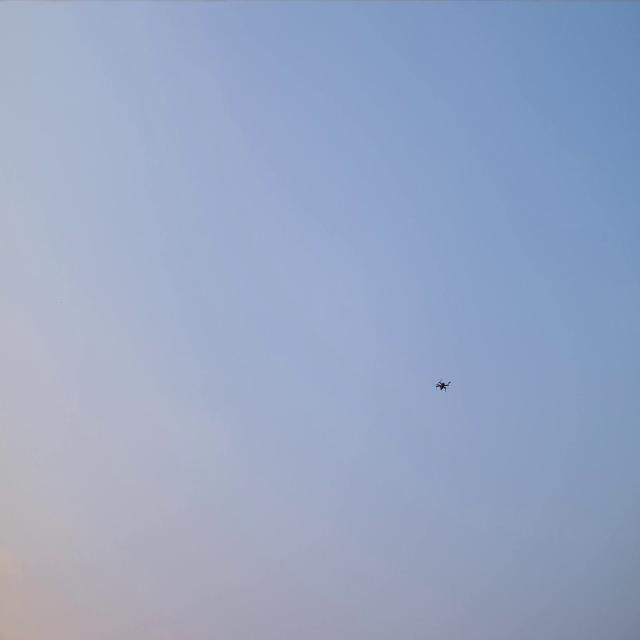UAV: (436, 381, 449, 391)
